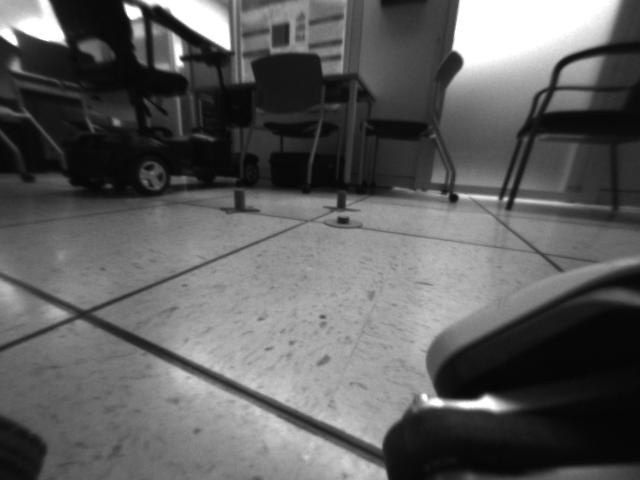X: (221, 186, 261, 215), (324, 188, 362, 213)
